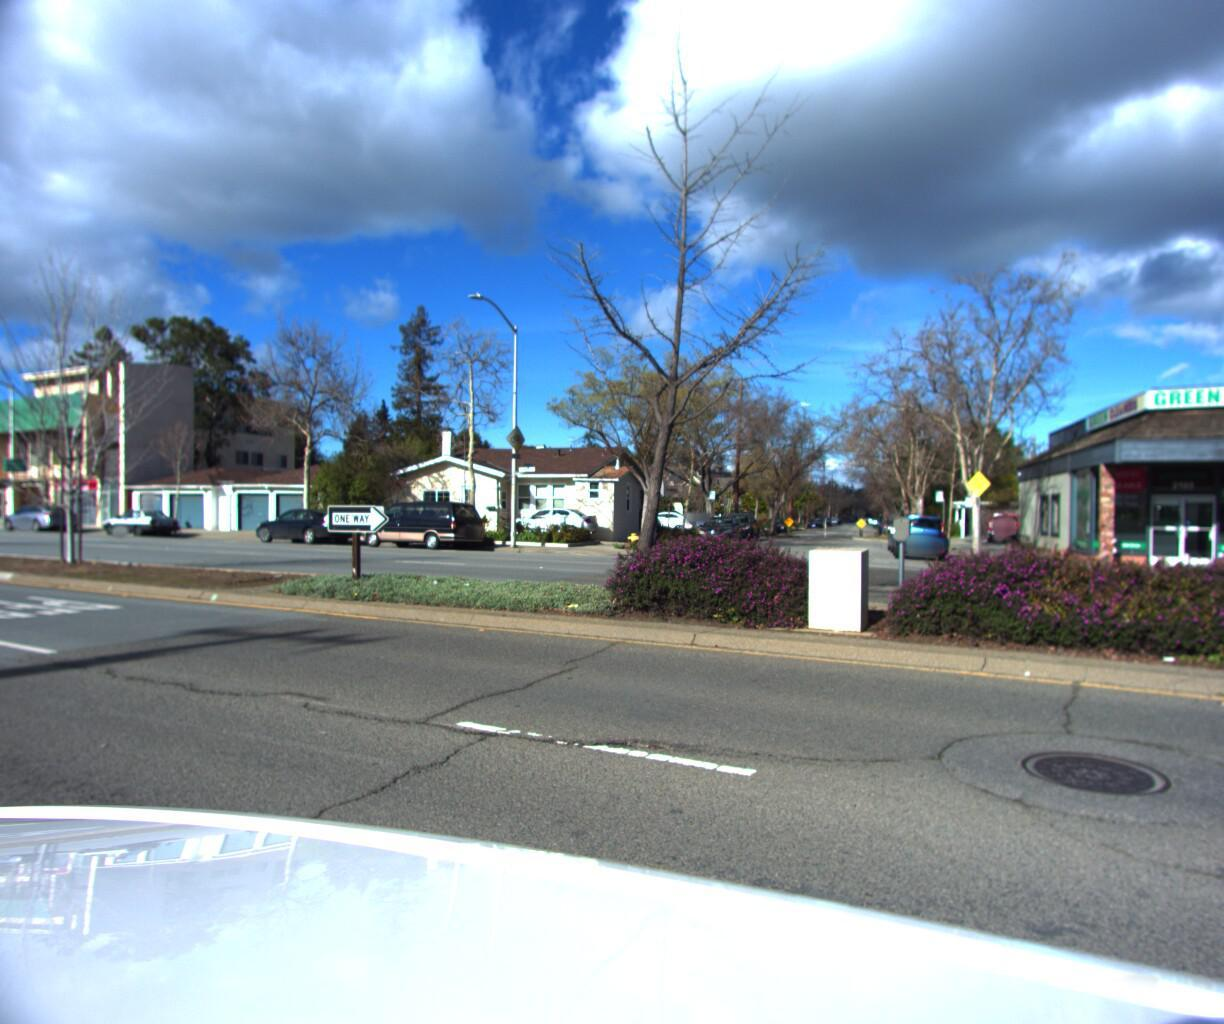car: (354, 503, 487, 554), (240, 513, 363, 549), (495, 507, 603, 542), (886, 514, 955, 560), (93, 513, 185, 541), (0, 510, 82, 539), (691, 517, 748, 546), (980, 511, 1028, 545), (715, 516, 761, 542), (636, 511, 698, 531), (653, 510, 709, 528), (741, 514, 777, 536), (691, 513, 730, 532)
